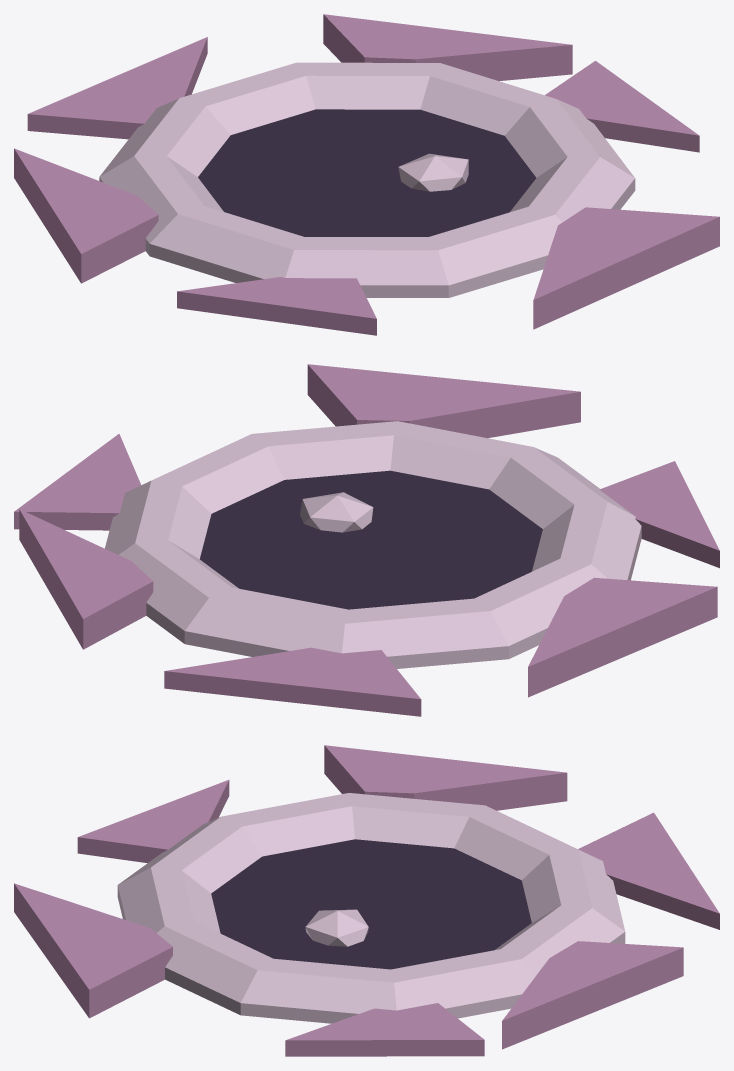
Rendered from crater-m-city.glb.
3 renders of one model, top to bottom at view 1: azimuth 30°, elevation 25°; view 2: azimuth 150°, elevation 25°; view 3: azimuth 270°, elevation 25°, orthographic. The views are drawn at different scales.
Visible parts, largest first — view 1: crater-m-city; view 2: crater-m-city; view 3: crater-m-city.
Part boxes in pixels (x1,y1,x2,y2): crater-m-city: (14, 14, 719, 335); crater-m-city: (14, 364, 719, 716); crater-m-city: (14, 745, 719, 1056).
Bounding box in the file's own units: 1.48 × 0.1032 × 1.56.
